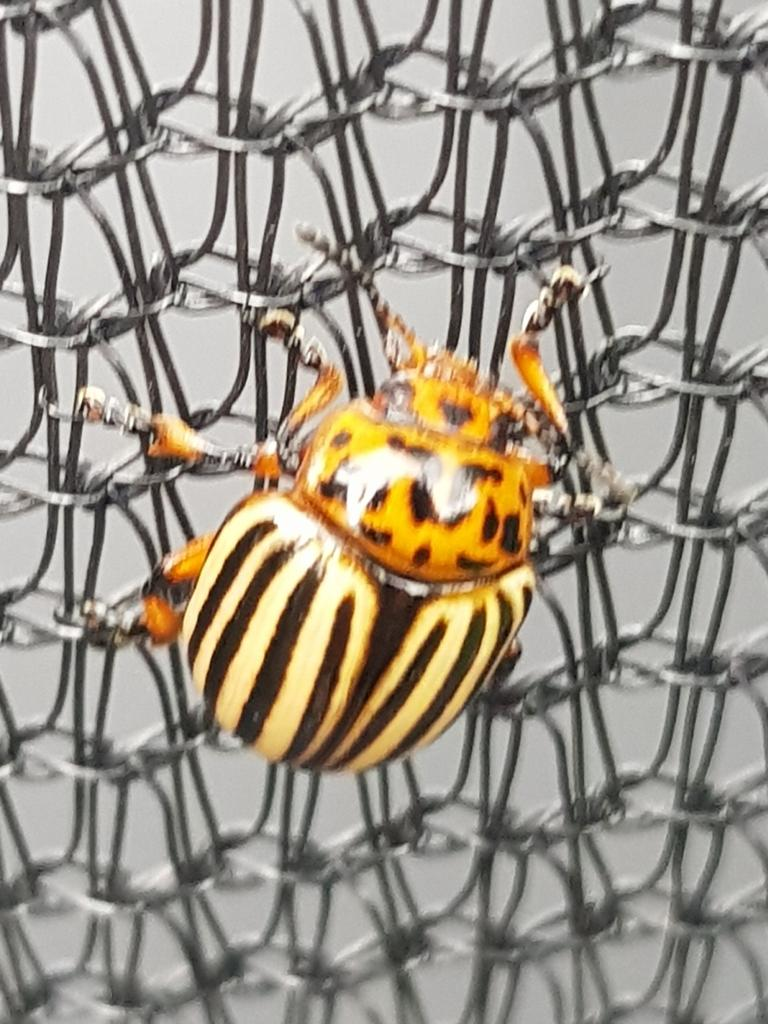potato_beetle: (0, 158, 768, 862)
